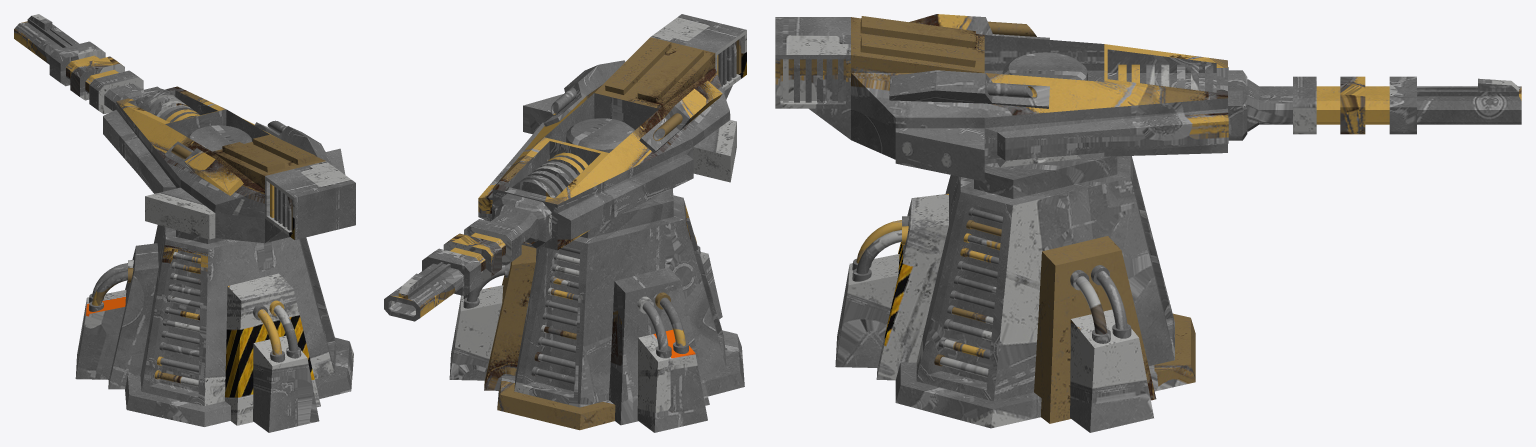
File: cannon.obj
3 renders of one model, left to right at view 1: azimuth 30°, elevation 25°; view 2: azimuth 150°, elevation 25°; view 3: azimuth 270°, elevation 25°, orthographic. The views are drawn at different scales.
Parts seen in each view (by area): view 1: polySurface22_lambert1_0.001; view 2: polySurface22_lambert1_0.001; view 3: polySurface22_lambert1_0.001.
Boxes of the visible parts, bbox=[...] form: polySurface22_lambert1_0.001: bbox=[14, 14, 355, 432]; polySurface22_lambert1_0.001: bbox=[384, 14, 746, 432]; polySurface22_lambert1_0.001: bbox=[775, 14, 1521, 432].
Size of the model in its own units: 2.06 by 2.06 by 4.26.
